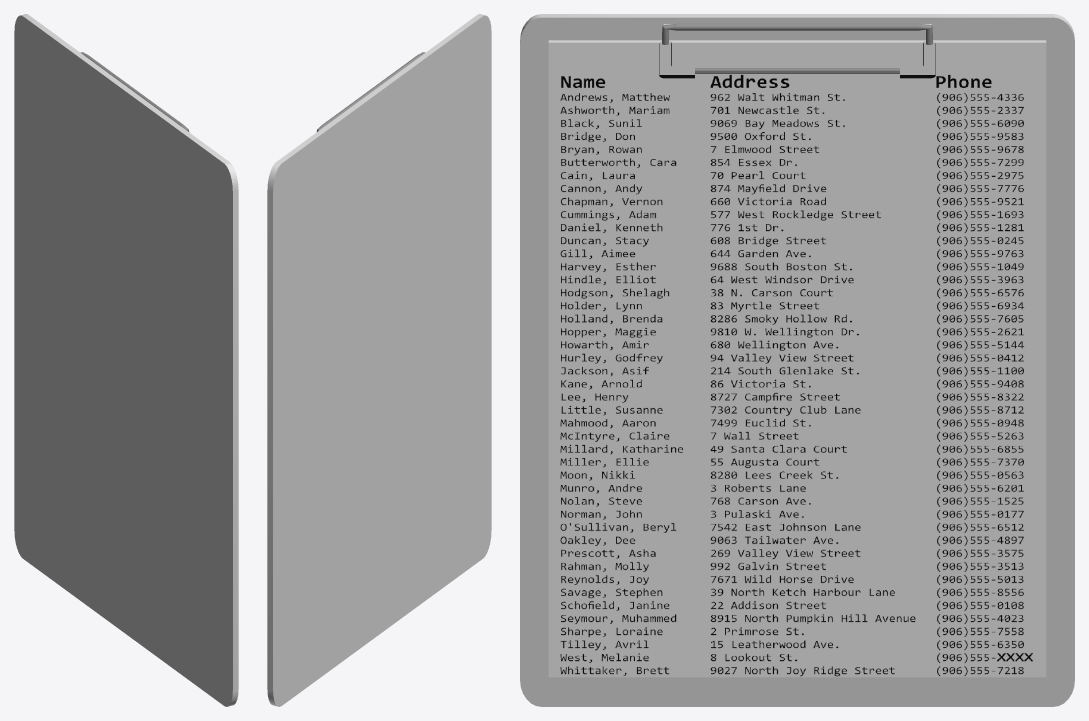
Rendered from V2ClipBoard.dae.
The picture shows the model from 3 angles, left to right: view 1: azimuth 30°, elevation 25°; view 2: azimuth 150°, elevation 25°; view 3: azimuth 270°, elevation 25°; orthographic projection. The views are drawn at different scales.
Visible parts, largest first — view 1: Wooden Baord, Clippy Snippy; view 2: Wooden Baord, Clippy Snippy; view 3: Paper Image, Wooden Baord, Clippy Snippy.
Boxes of the visible parts, x1=… form: Wooden Baord: x1=14, y1=14, x2=238, y2=706; Clippy Snippy: x1=80, y1=52, x2=189, y2=131; Wooden Baord: x1=267, y1=14, x2=491, y2=706; Clippy Snippy: x1=316, y1=52, x2=425, y2=131; Paper Image: x1=548, y1=42, x2=1046, y2=677; Wooden Baord: x1=520, y1=14, x2=1074, y2=706; Clippy Snippy: x1=659, y1=23, x2=935, y2=78.
Bounding box in the file's own units: 0.0805 × 2 × 2.74.
4 materials, 1 textured.
